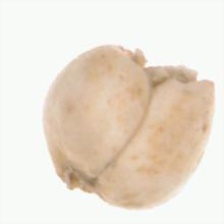L3: (112, 40, 217, 88)
L4: (42, 43, 216, 210)
